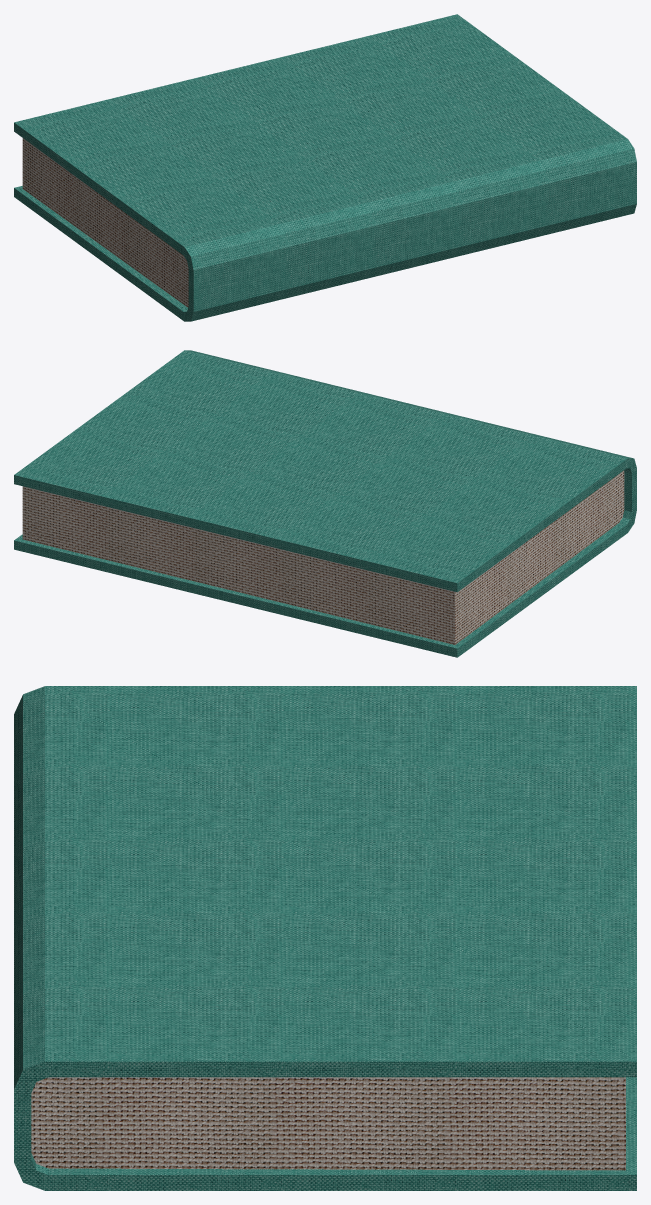
File: book5.glb
3 views of the same model, one above another, from view 1: azimuth 30°, elevation 25°; view 2: azimuth 150°, elevation 25°; view 3: azimuth 270°, elevation 25° (orthographic). The views are drawn at different scales.
Visible parts, largest first — view 1: Book5; view 2: Book5; view 3: Book5.
Boxes of the visible parts, box(x1,y1,x2,y2) form: Book5: box(14, 14, 636, 321); Book5: box(14, 350, 636, 657); Book5: box(14, 686, 636, 1190).
Bounding box in the file's own units: 0.5111 × 0.0821 × 0.3584.
Materials: 2 (2 with a texture image).
